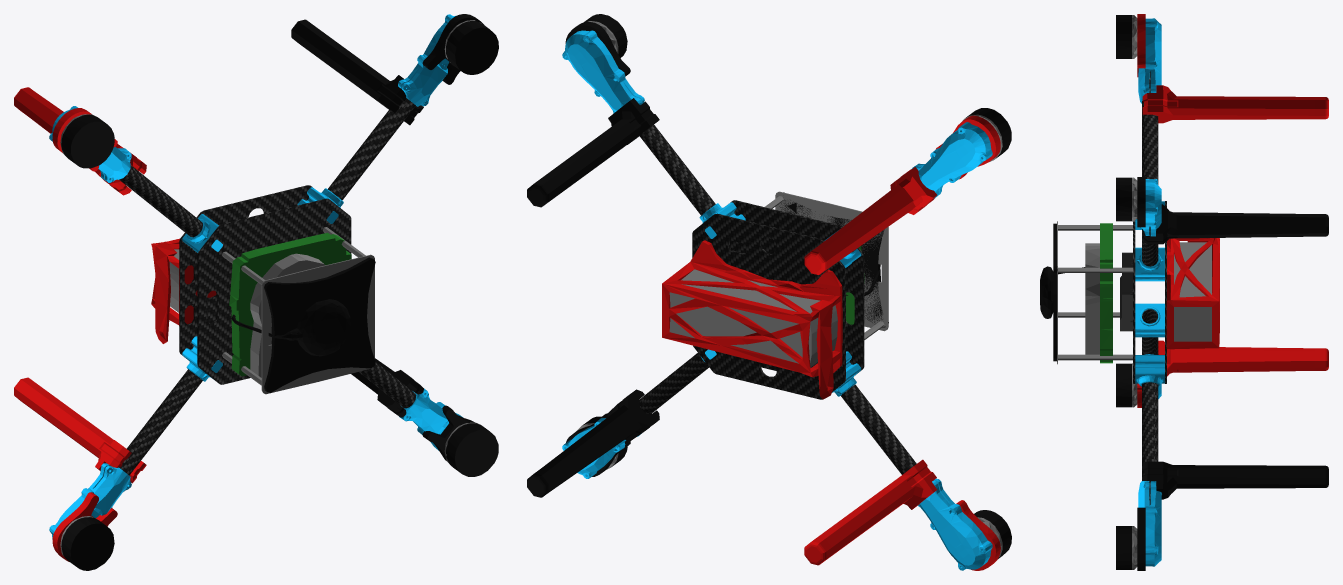
File: x500_body.obj
The picture shows the model from 3 angles, left to right: view 1: azimuth 30°, elevation 25°; view 2: azimuth 150°, elevation 25°; view 3: azimuth 270°, elevation 25°; orthographic projection. The views are drawn at different scales.
Visible parts, largest first — view 1: black, carbon, red, blue, grey, green; view 2: red, carbon, black, blue, grey; view 3: black, red, grey, blue, carbon, green, dark_grey.
Part boxes in pixels (bbox=[...]): black: bbox=[61, 14, 498, 570]; carbon: bbox=[119, 98, 416, 475]; red: bbox=[14, 87, 216, 561]; blue: bbox=[49, 14, 462, 539]; grey: bbox=[60, 20, 481, 555]; green: bbox=[229, 232, 351, 376]; red: bbox=[662, 115, 1000, 570]; carbon: bbox=[638, 124, 916, 474]; black: bbox=[527, 14, 1011, 558]; blue: bbox=[562, 30, 992, 570]; grey: bbox=[576, 21, 1002, 556]; black: bbox=[1040, 15, 1328, 570]; red: bbox=[1137, 14, 1328, 407]; grey: bbox=[1057, 15, 1211, 569]; blue: bbox=[1135, 18, 1164, 566]; carbon: bbox=[1133, 71, 1166, 505]; green: bbox=[1100, 223, 1112, 363]; dark_grey: bbox=[1120, 252, 1132, 331].
Bounding box in the file's own units: 0.406 × 0.406 × 0.2723.
Materials: 7 (1 with a texture image).
